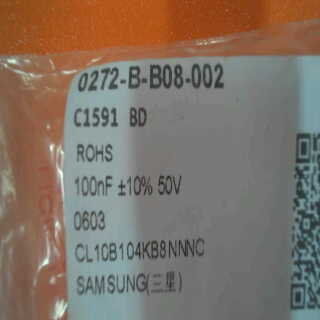100nF: (73, 172, 112, 203)
